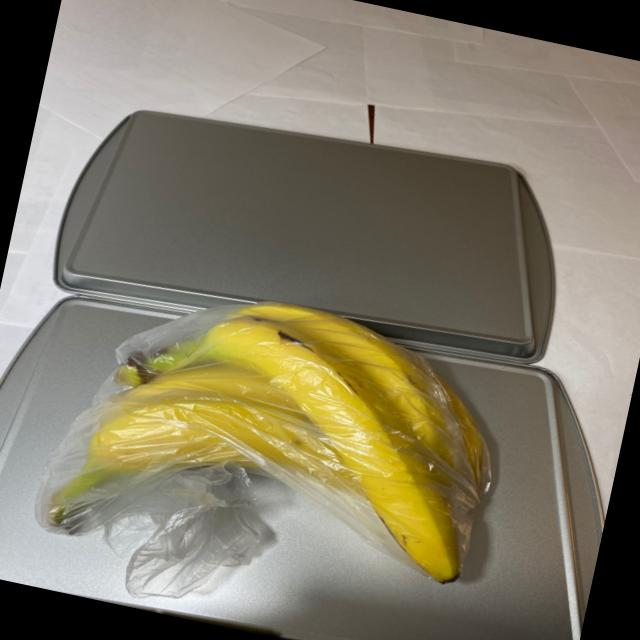banana: (12, 253, 528, 618)
